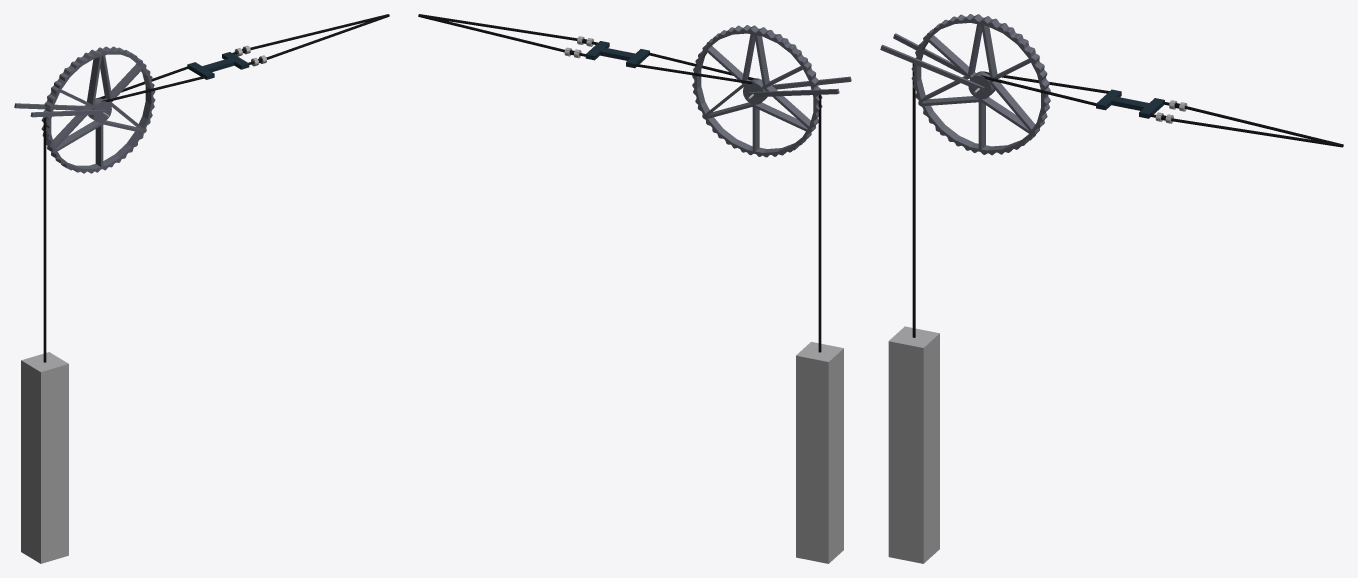
File: bvl_afspanning.glb
3 renders of one model, left to right at view 1: azimuth 30°, elevation 25°; view 2: azimuth 150°, elevation 25°; view 3: azimuth 330°, elevation 25°, orthographic. The views are drawn at different scales.
Visible parts, largest first — view 1: bvl_afspanning; view 2: bvl_afspanning; view 3: bvl_afspanning.
Boxes of the visible parts, x1,y1,x2,y2 form: bvl_afspanning: [14, 14, 389, 563]; bvl_afspanning: [418, 14, 851, 563]; bvl_afspanning: [880, 14, 1343, 563].
Bounding box in the file's own units: 12.66 × 15.25 × 1.7.
